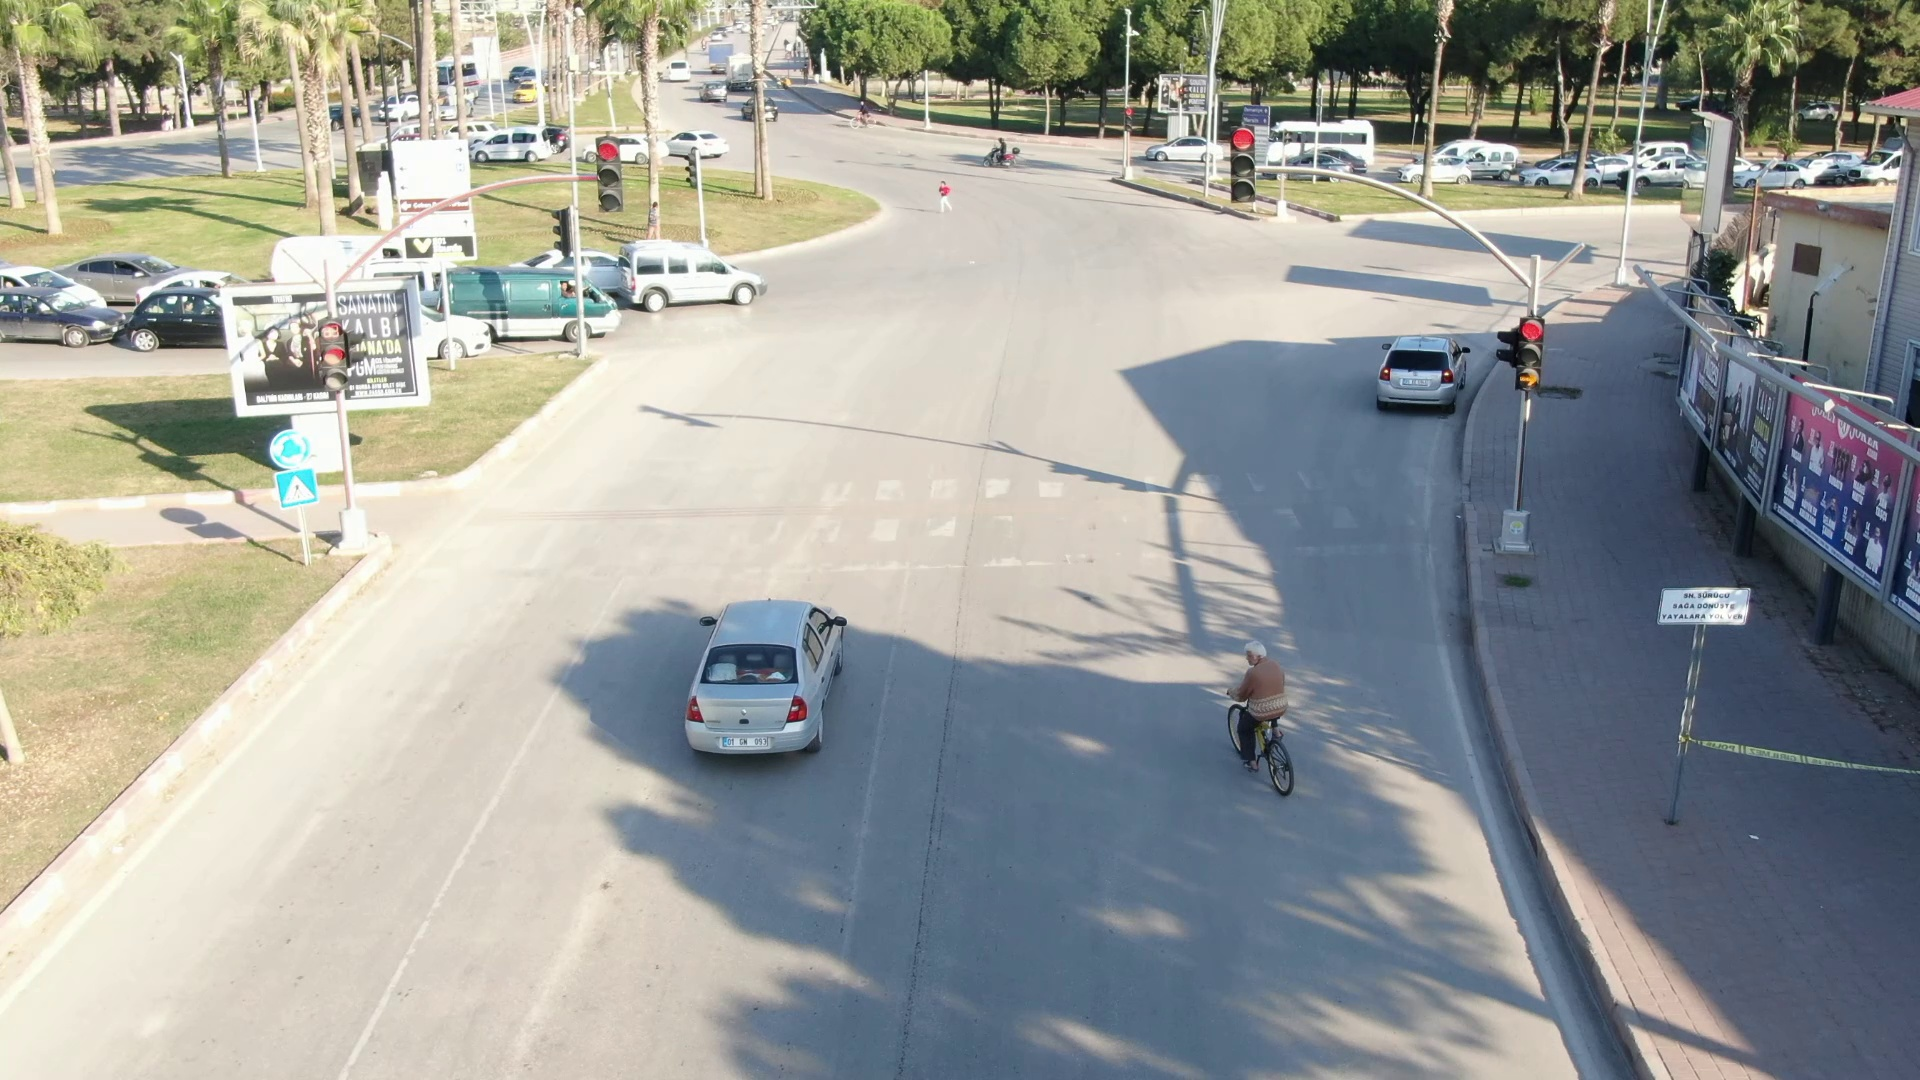car: (625, 565, 904, 765), (426, 264, 644, 349), (1352, 319, 1487, 439), (612, 232, 792, 322), (467, 116, 564, 173)
person: (1211, 634, 1309, 716)
